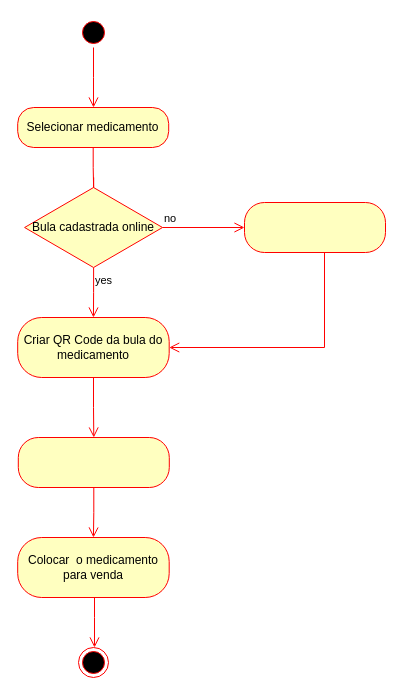
Some shapes in this 403 by 695 pixel diagram are drawn without their labels. Here are the shapes that lost their labels. From the top down, the centre of each, then its label:
At (315,227): "Cadastrar online a bula do medicamento".
At (93,462): "Inserir o QR Code na embalagem do medicamento".
